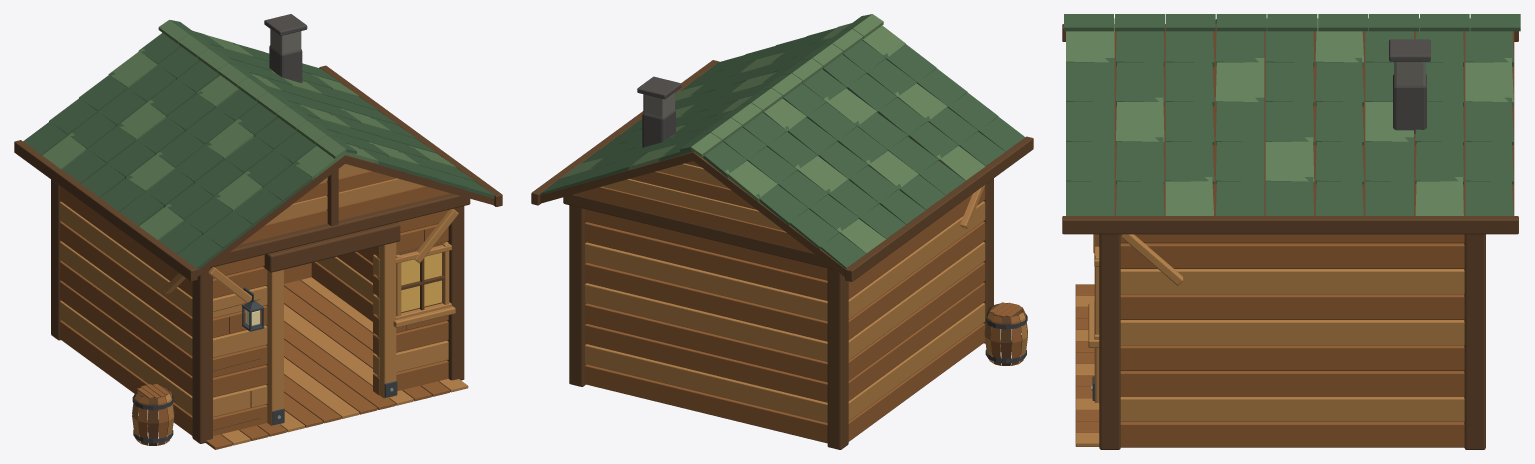
File: CabinCorner.fbx
3 views of the same model, side by side, from view 1: azimuth 30°, elevation 25°; view 2: azimuth 150°, elevation 25°; view 3: azimuth 270°, elevation 25° (orthographic). The views are drawn at different scales.
Visible parts, largest first — view 1: CabinCorner_Mesh, Cabin side barrel_Mesh, Cabin door lantern_Mesh; view 2: CabinCorner_Mesh, Cabin side barrel_Mesh; view 3: CabinCorner_Mesh.
Part boxes in pixels (x1,y1,x2,y2): CabinCorner_Mesh: (14,14,502,449); Cabin side barrel_Mesh: (132,384,174,445); Cabin door lantern_Mesh: (242,287,264,331); CabinCorner_Mesh: (531,14,1033,449); Cabin side barrel_Mesh: (984,302,1027,365); CabinCorner_Mesh: (1062,14,1520,449).
Bounding box in the file's own units: 5.62 × 4.53 × 5.14.
